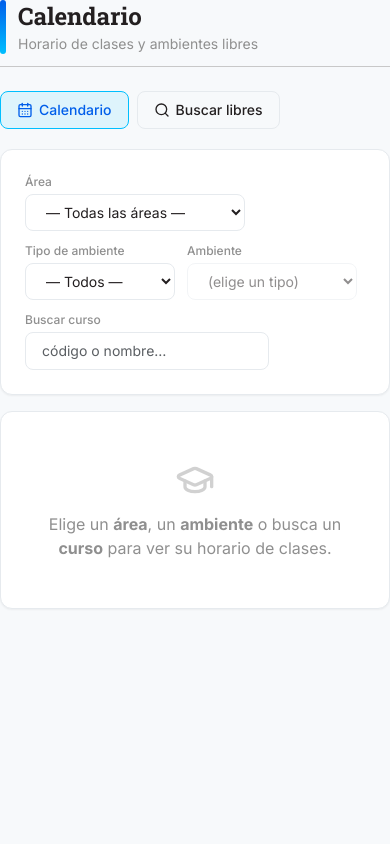
Test: AulasPage › al elegir un laboratorio con eventos, los muestra en la grilla
Select "Laboratorio" in the dropdown below "Tipo de ambiente" at (100, 282), box [25,263,175,300]
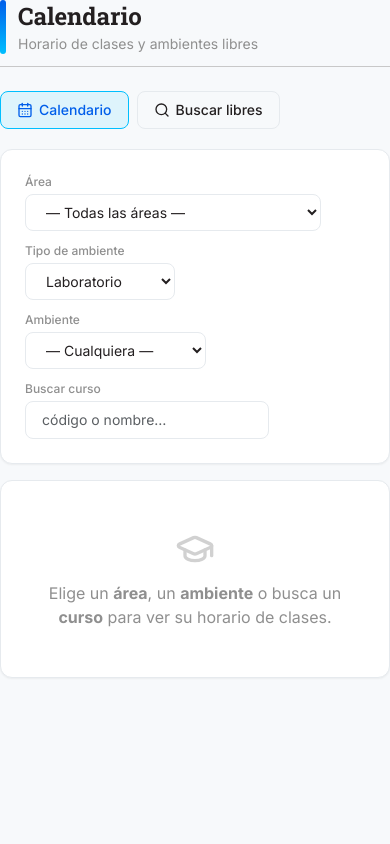
Select "L108 · Concept Lab" in the 3rd dropdown at (116, 350), box [25,332,206,369]
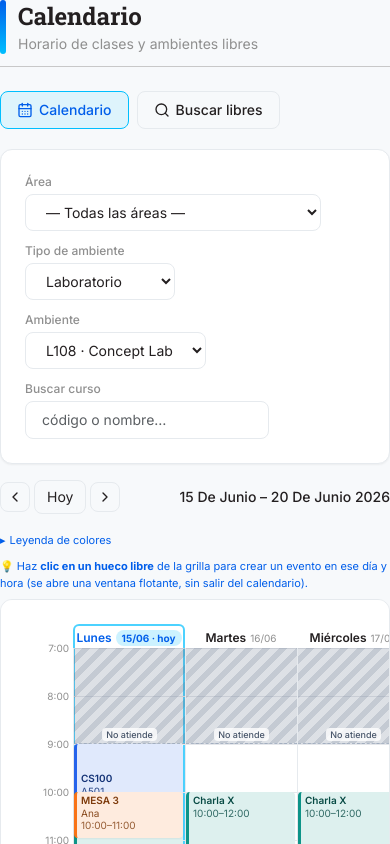
Check: the text "Charla X" in the row of "MESA 3" is shown, box [81,794,122,806]
